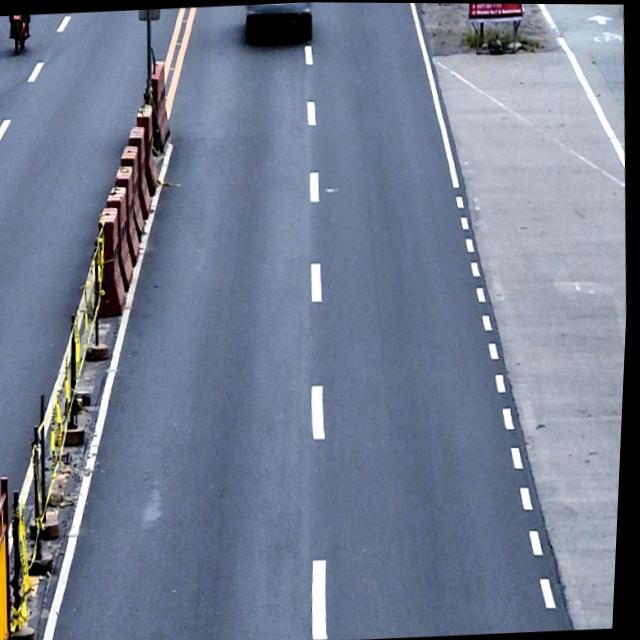Car: (244, 1, 314, 43)
Motorcycle: (7, 15, 33, 56)
